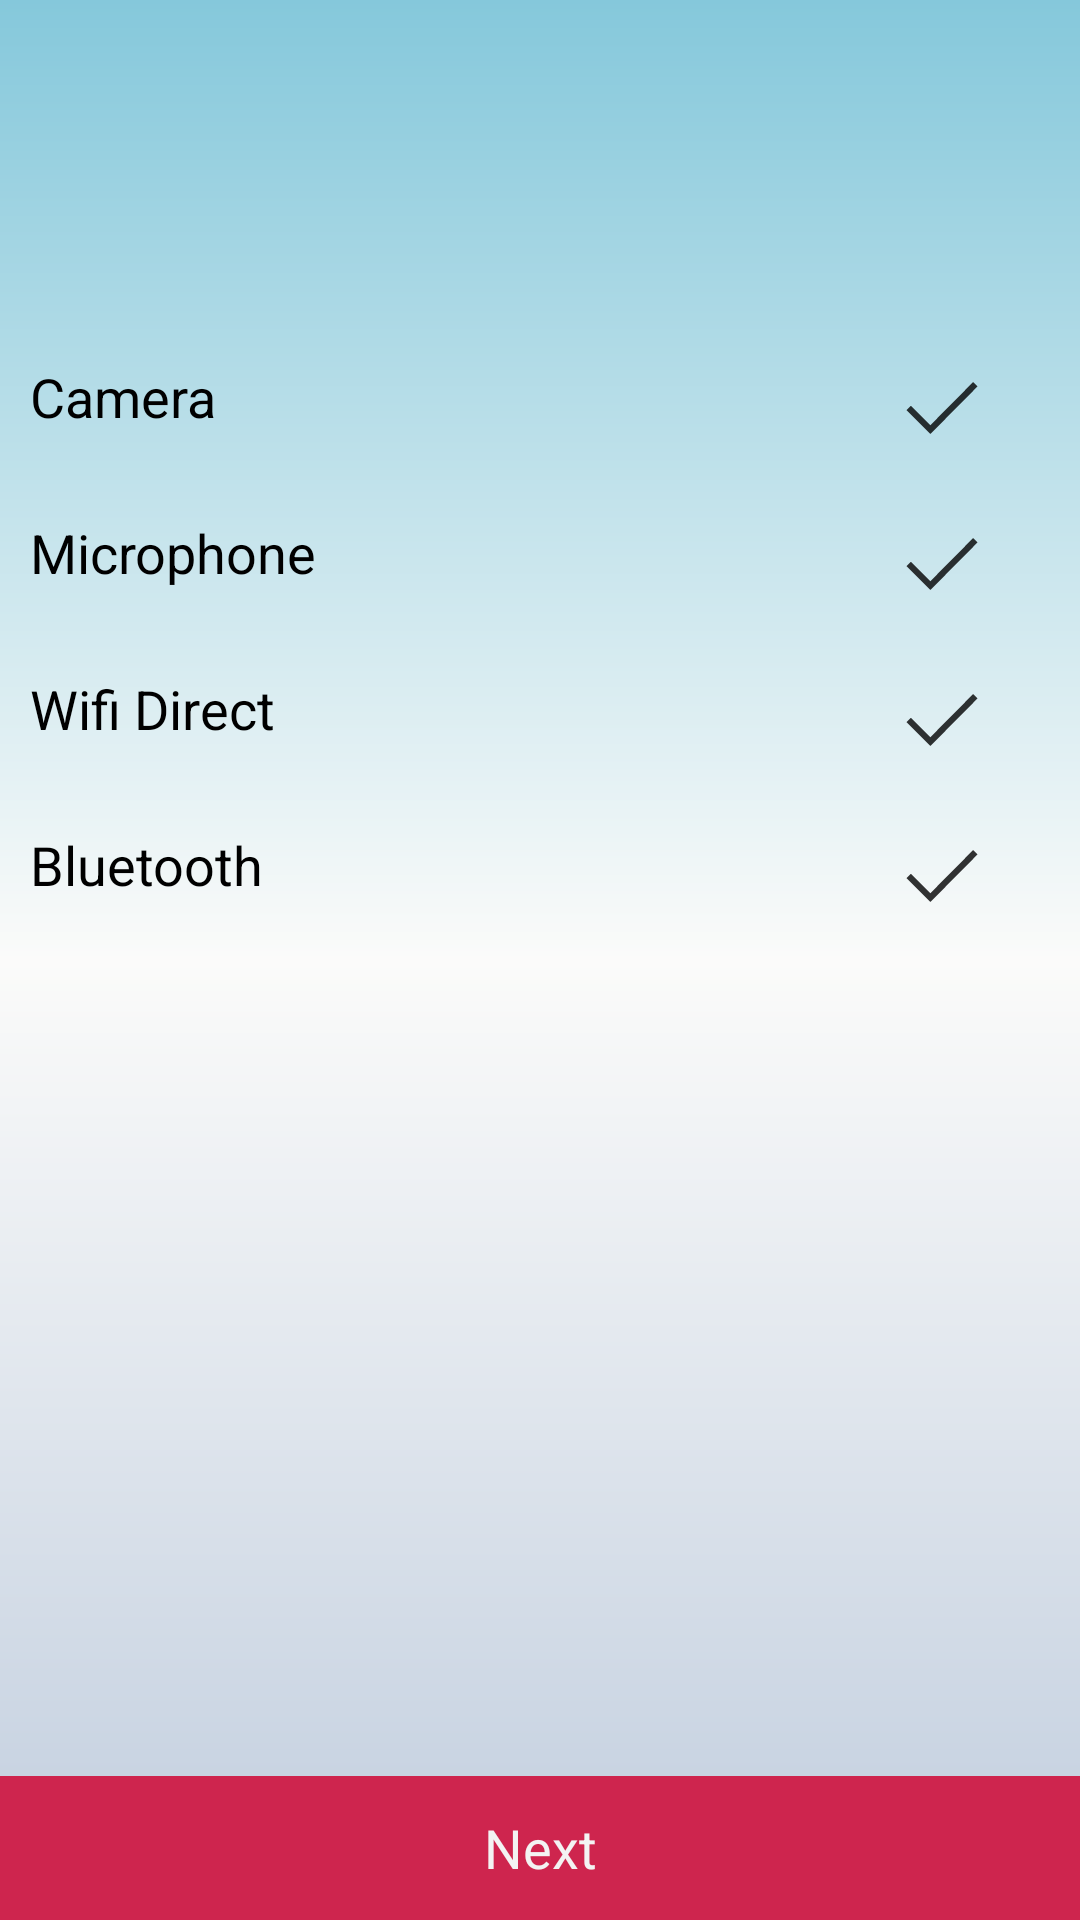

Locate icon controls on the screen. Image size 1080 × 1920, boxes as Rect(x1, y1, x2, y2).
accept: Rect(906, 382, 978, 434), Rect(906, 538, 978, 590), Rect(906, 694, 978, 746), Rect(906, 850, 978, 902)
